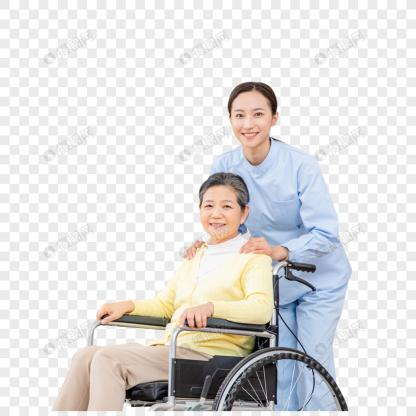wheelchair: (52, 171, 350, 416)
